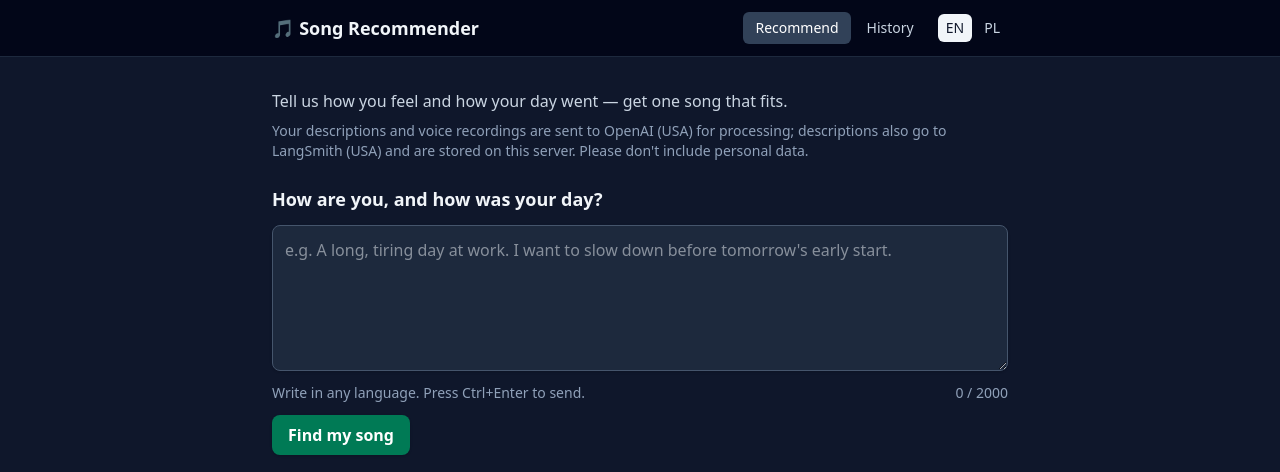
Test case: LanguageSwitcher › switches the whole UI to Polish and remembers the choice
What coordinates should you click on to do the following:
click the button with aria-label "Polski"
I would click on:
 (992, 28)
Its box is [976,14,1008,42].
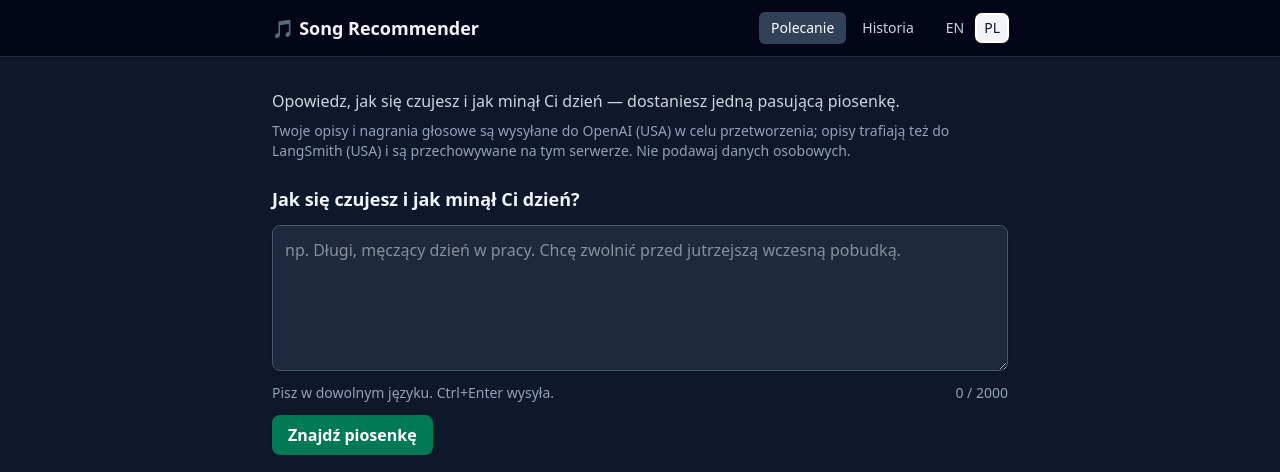
Expected: the text box labelled "Jak się czujesz i jak minął Ci dzień?" is shown, [272,225,1008,371]
Now the button "Znajdź piosenkę" is shown, box [272,415,433,455]
Now the link "Historia" is shown, box [862,18,914,37]
